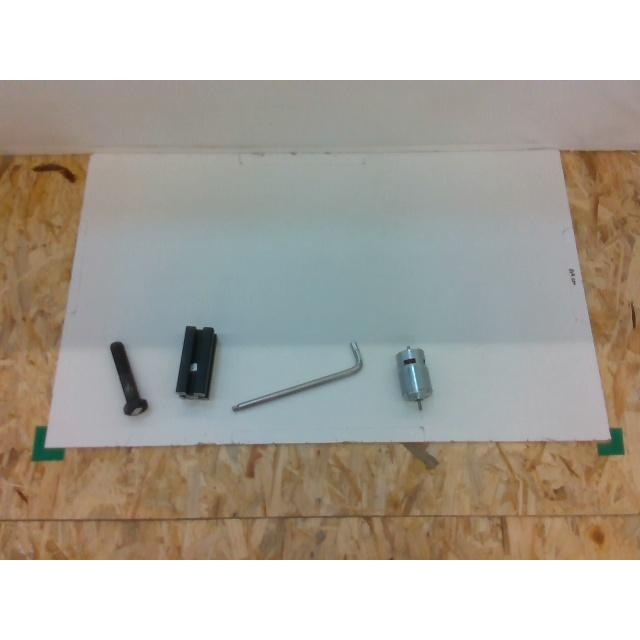AllenKey: (231, 342, 363, 410)
M20_100: (109, 342, 148, 414)
Motor2: (396, 345, 434, 411)
S40_40_B: (175, 325, 217, 397)
